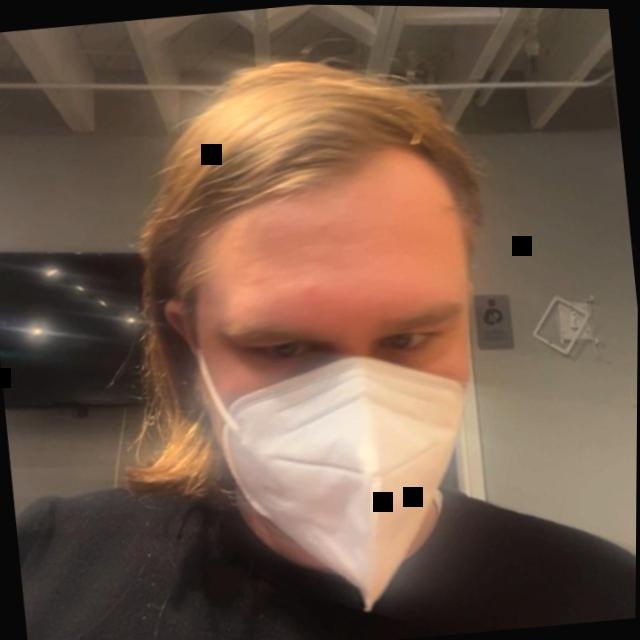Mask: (74, 46, 518, 609)
